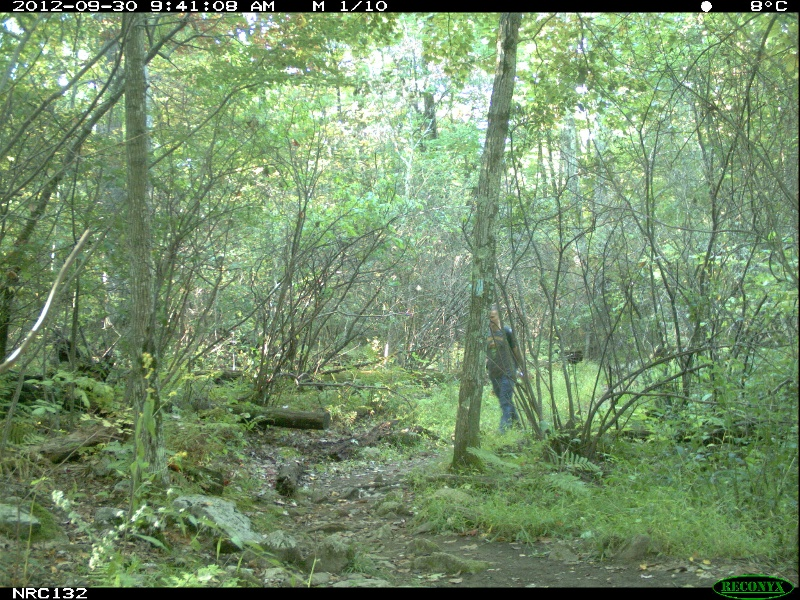human: (475, 302, 527, 437)
human face: (486, 308, 501, 330)
human legs: (487, 374, 526, 438)
